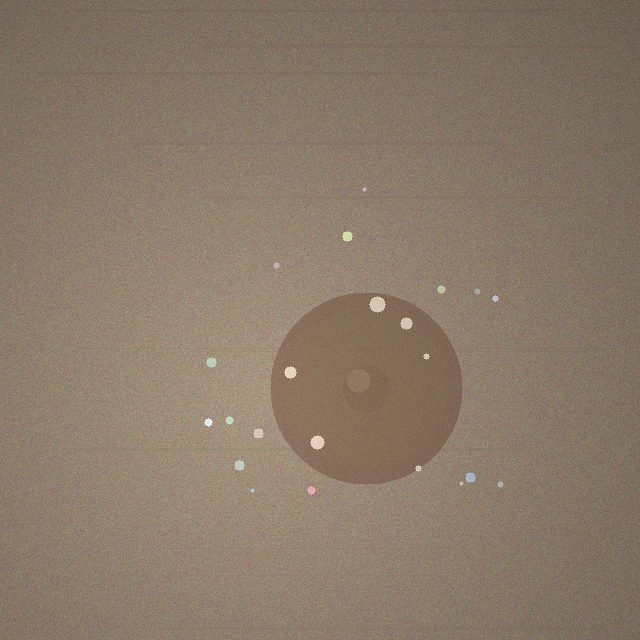overburn: (270, 292, 462, 484)
